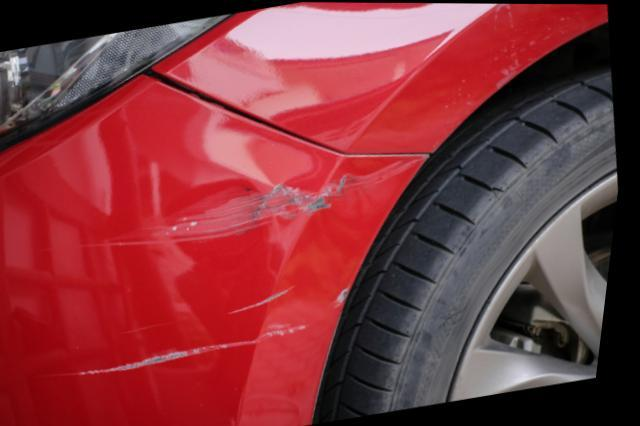scratch: (97, 154, 427, 249), (67, 282, 357, 381)
